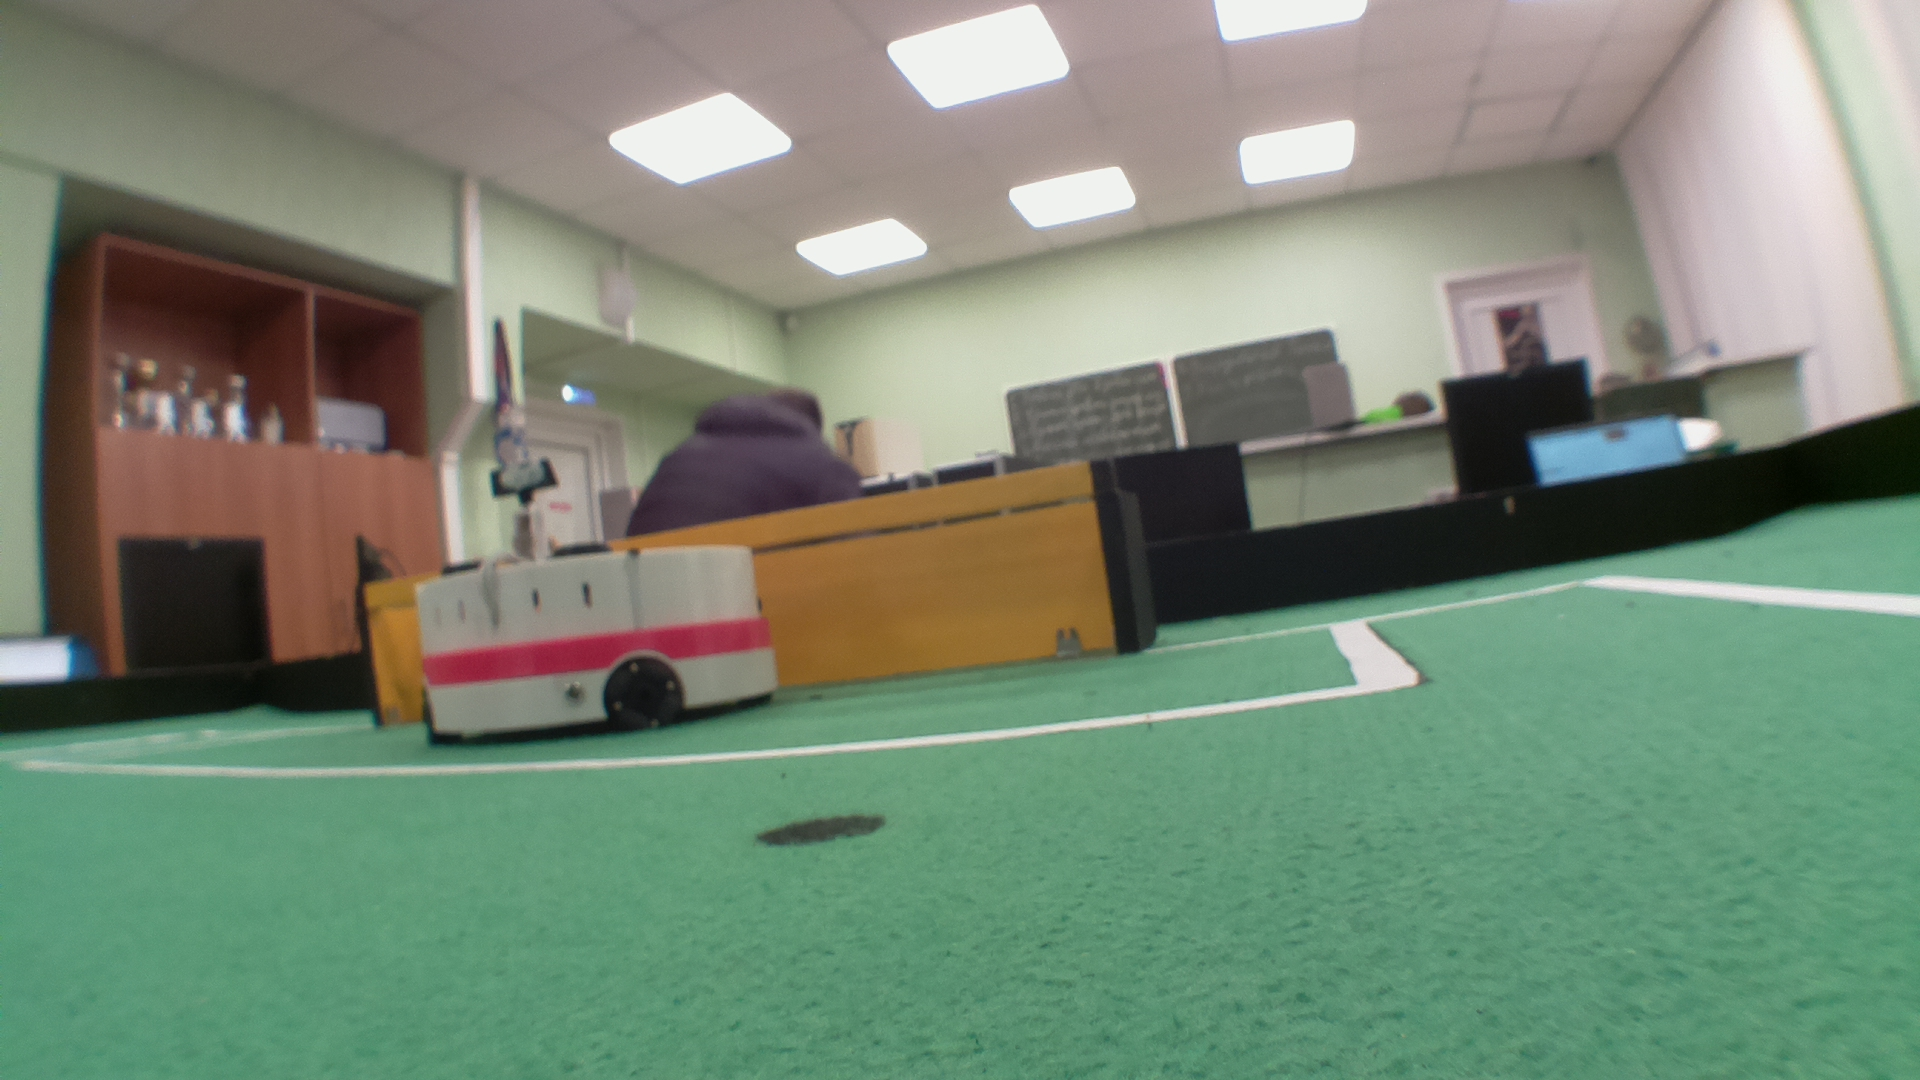YellowGoal: (364, 468, 1131, 729)
